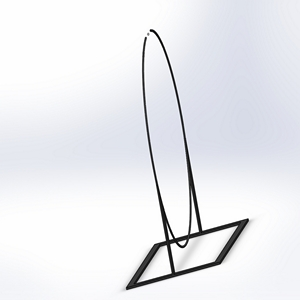circle: (124, 27, 250, 289)
